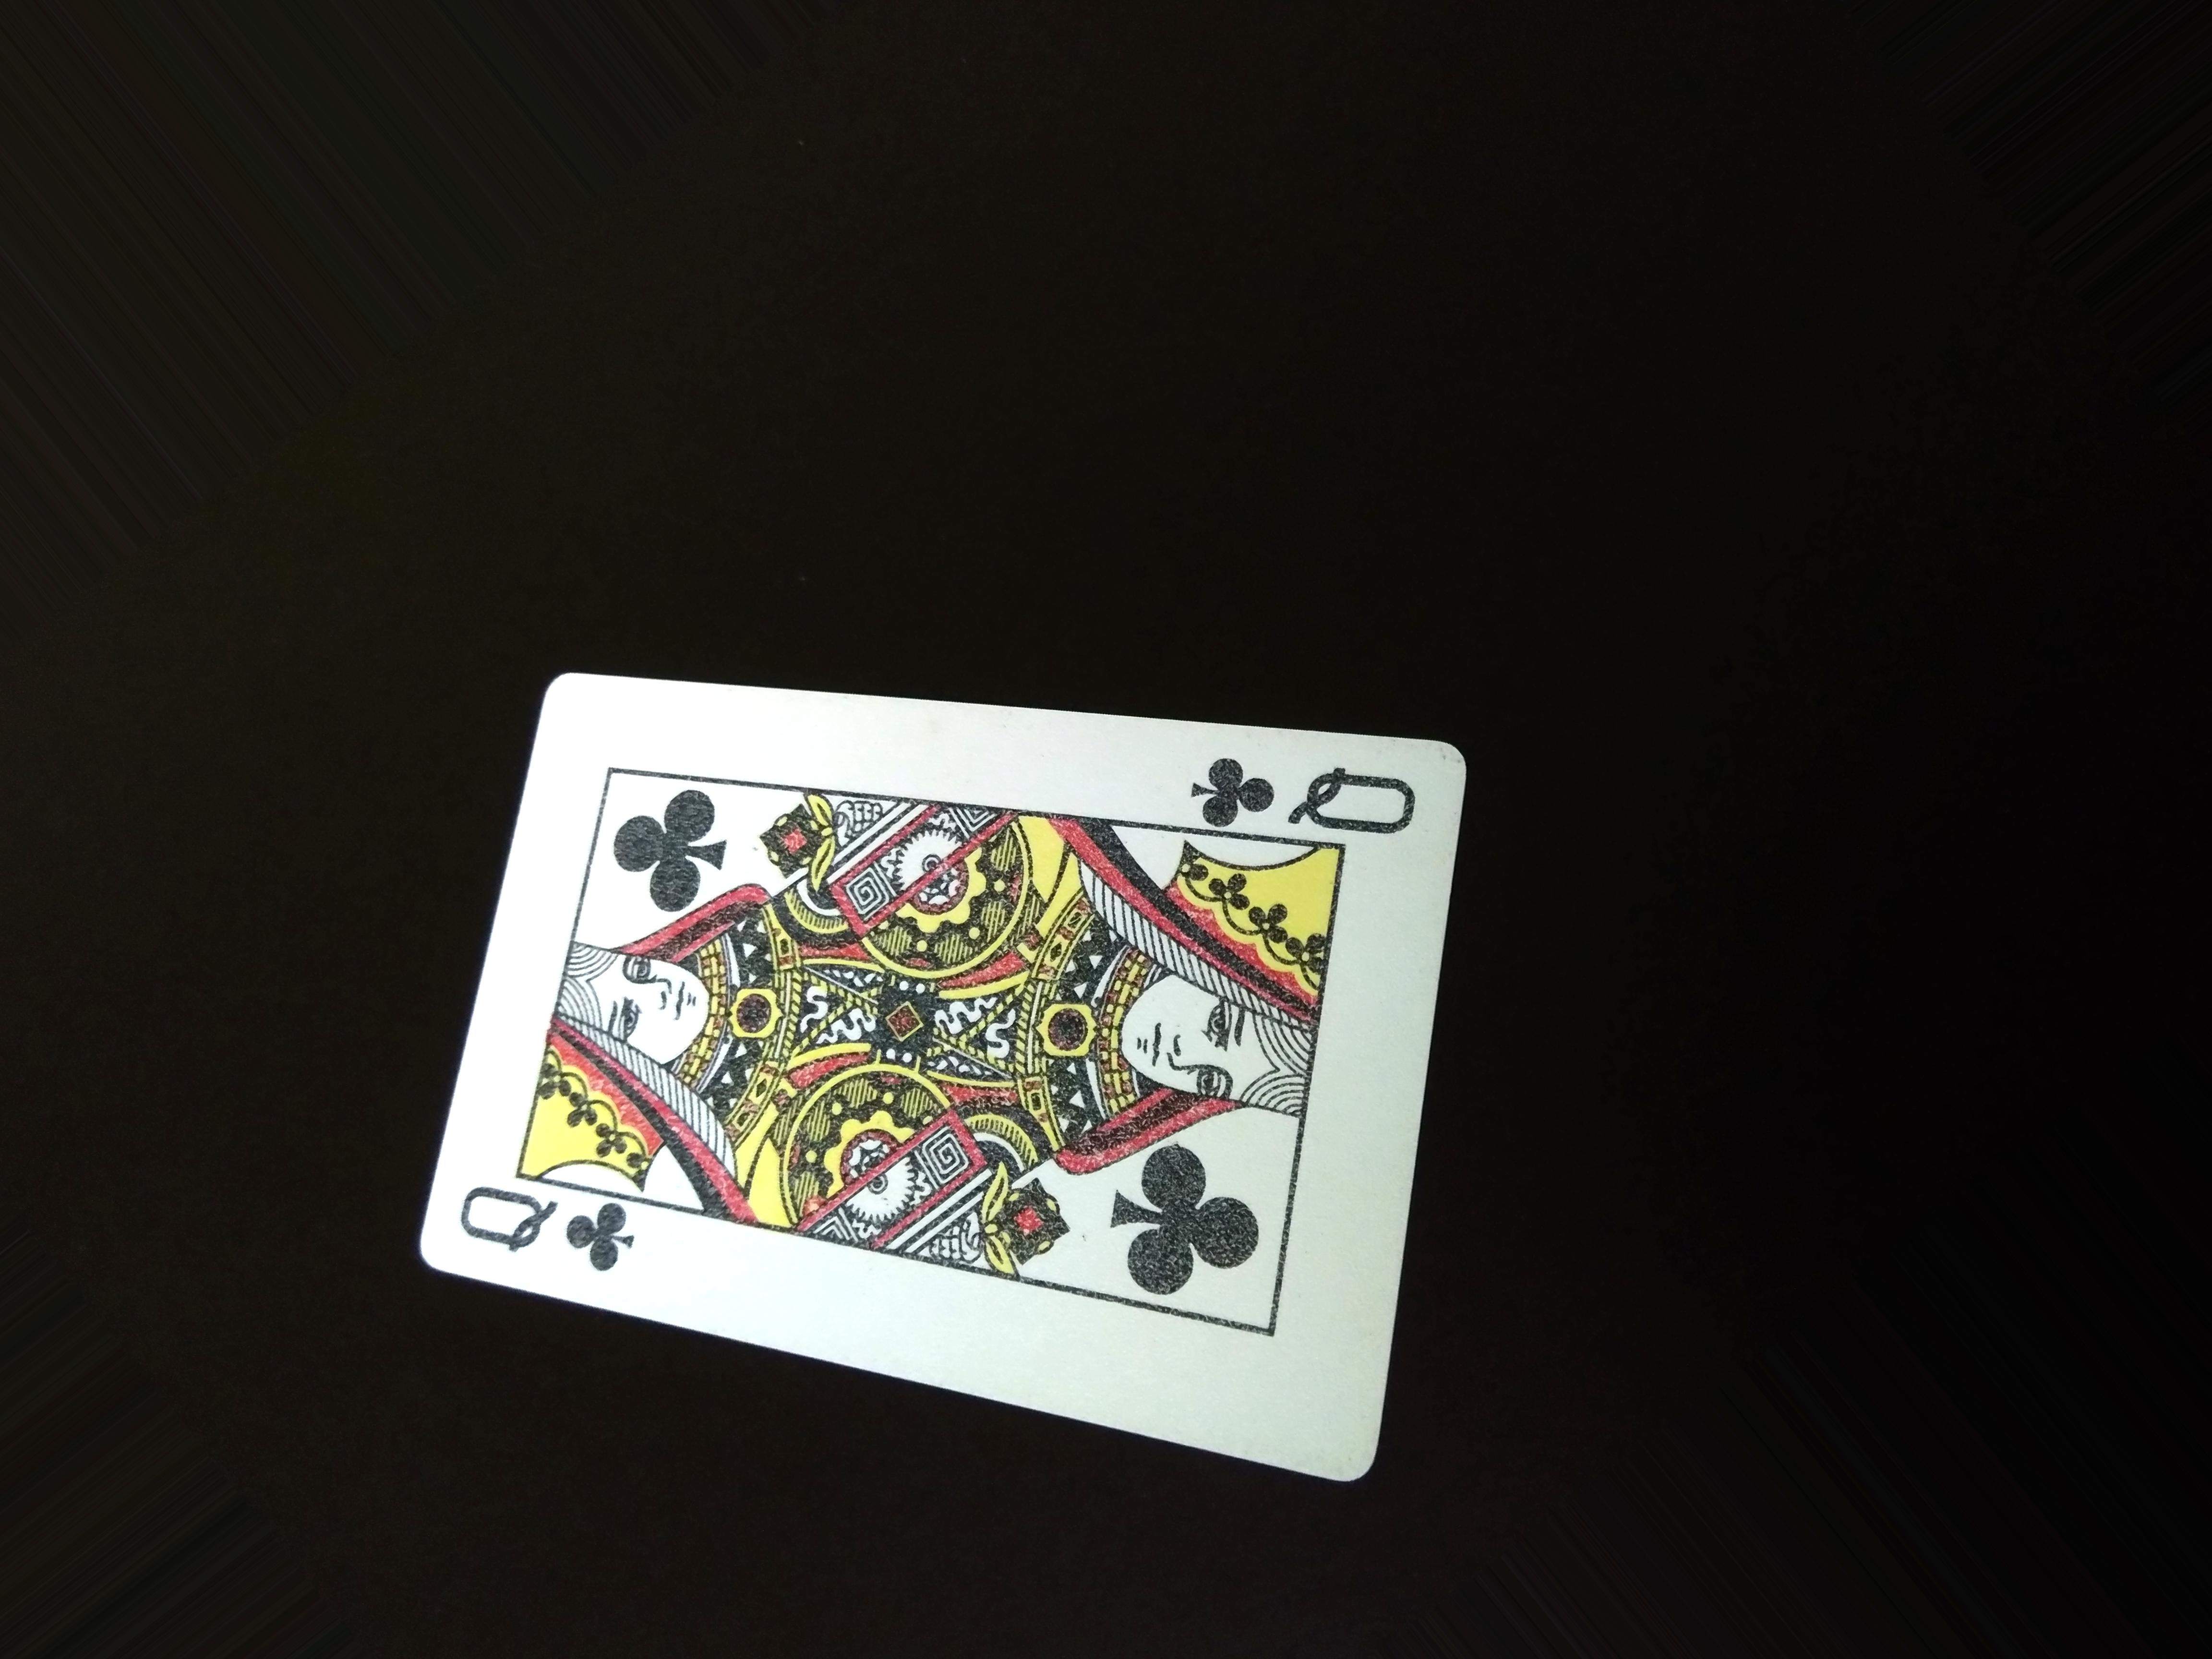QC: (1160, 753, 1435, 828)
